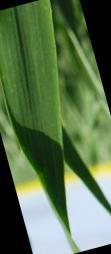Potato: (1, 10, 58, 133)
